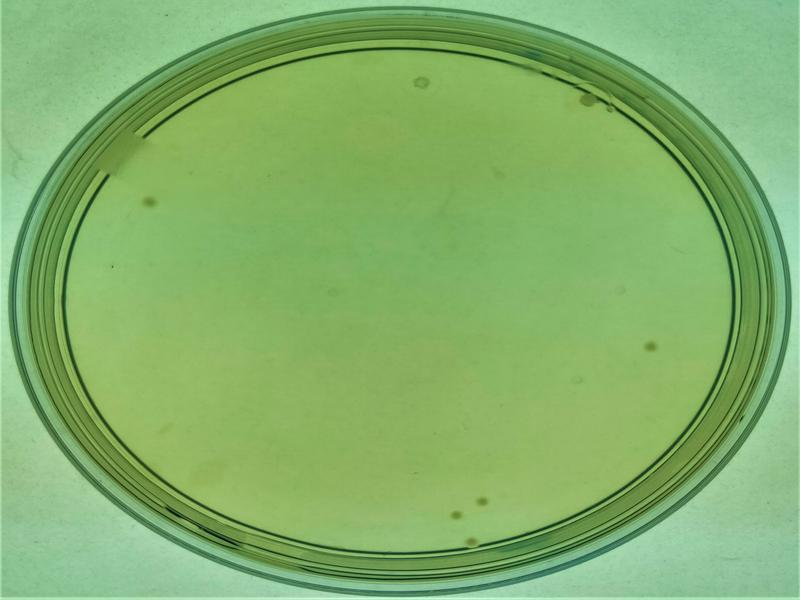colony: (400, 64, 437, 94), (133, 188, 165, 218), (436, 501, 470, 527), (637, 332, 667, 360), (469, 491, 496, 512)
